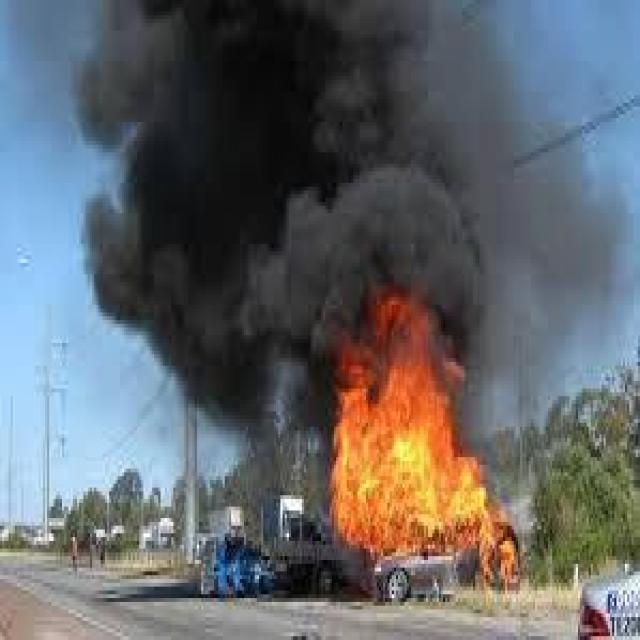fire: (322, 299, 515, 593)
smoke: (73, 0, 520, 377)
